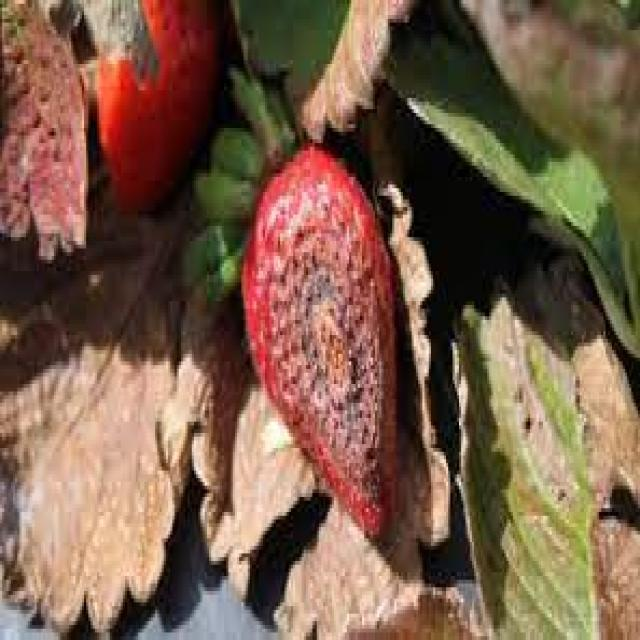Mancha negra Antracnosis: (244, 142, 408, 539)
